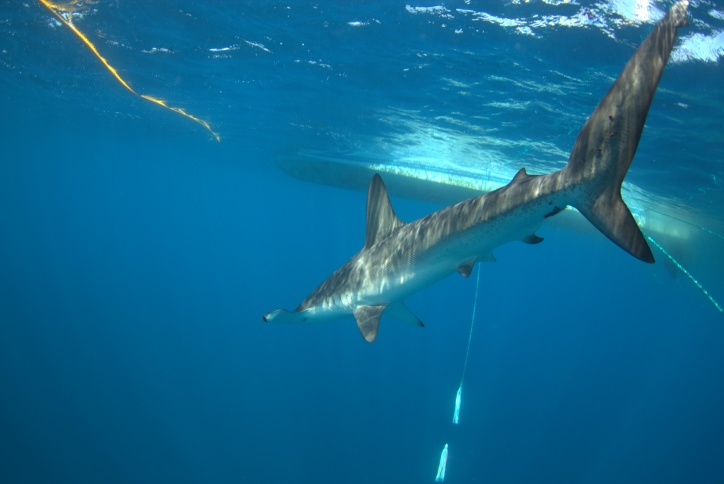Hammer: (253, 1, 700, 386)
